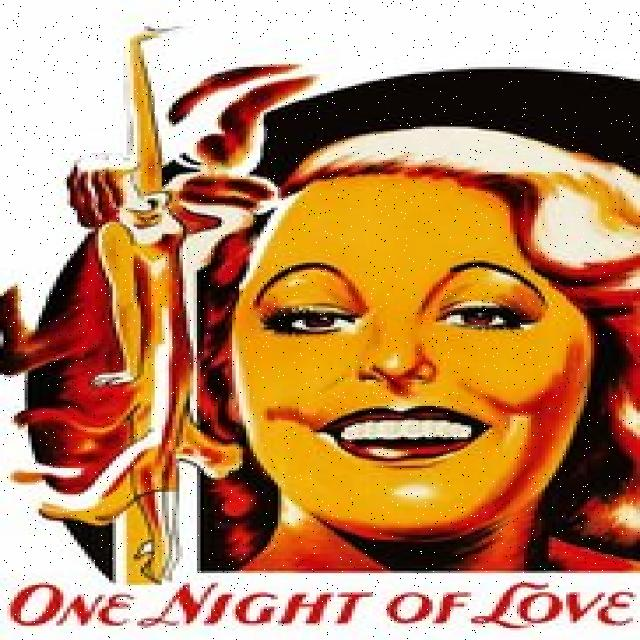movie-judul: (8, 579, 640, 638)
picture: (0, 7, 640, 573)
